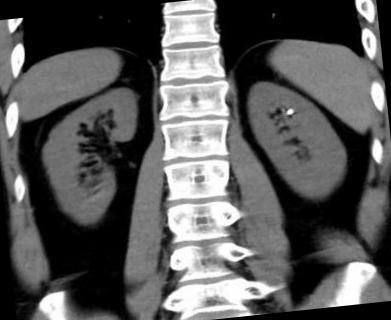Tas_Var: (285, 106, 295, 118), (278, 106, 286, 114)
